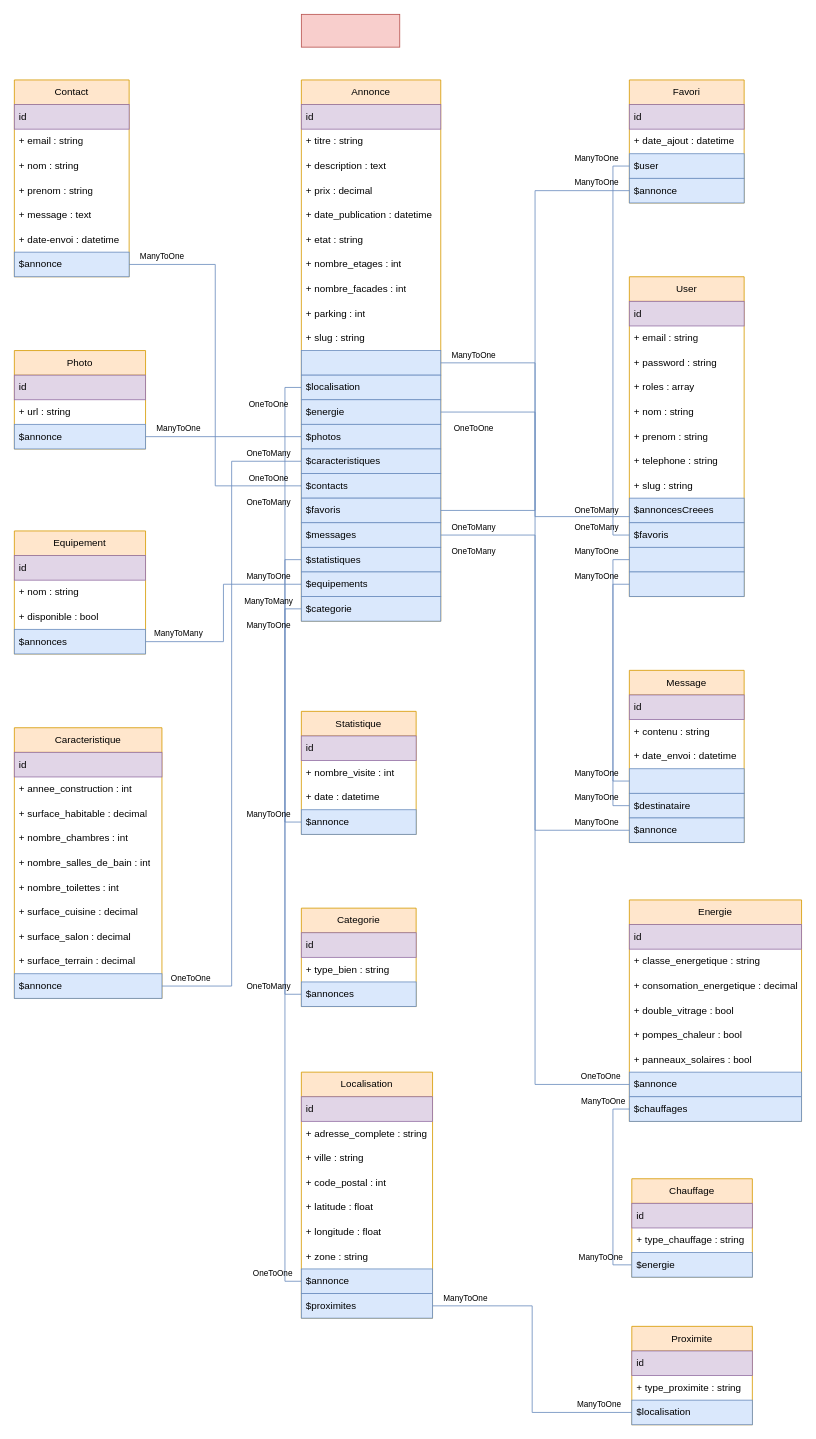
This 816x1439 diagram has some shape labels left out. The shapes that lost their labels are listed below. From the top down, each one's centre as x and y in pixels, then its label:
At point 350,30: "ENTITES".
At point 371,362: "$createur".
At point 686,559: "$messagesEnvoyes".
At point 686,584: "$messageRecus".
At point 686,780: "$expediteur".
